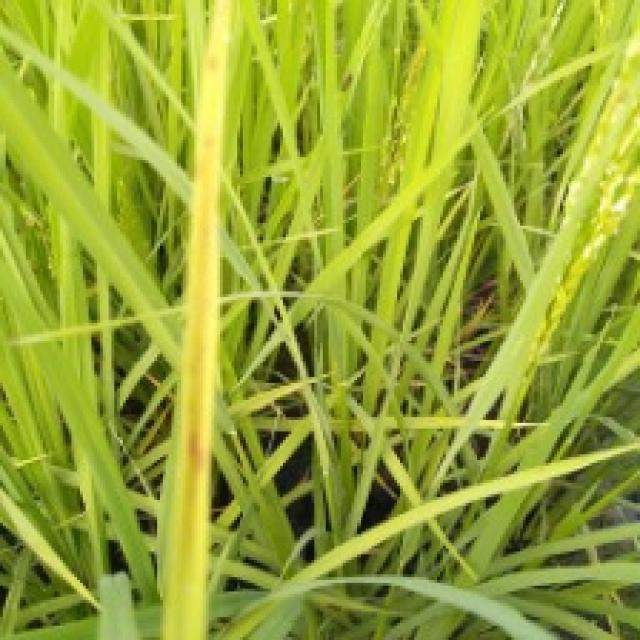Rice___Brown_Spot: (161, 0, 236, 637)
